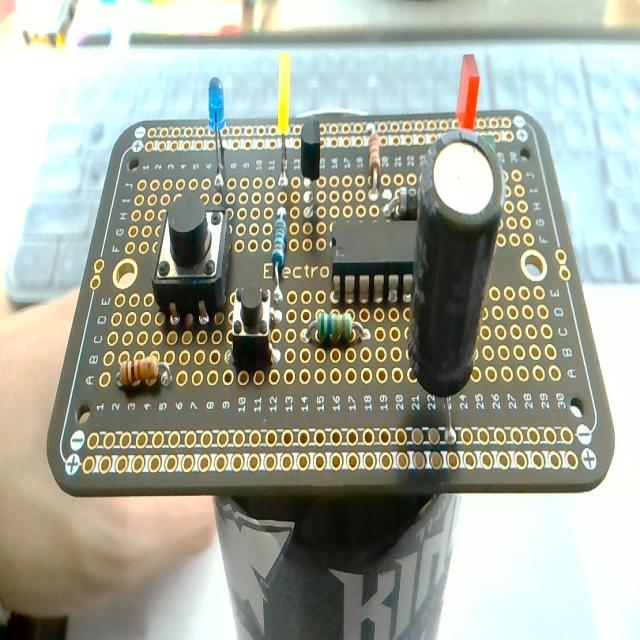Electrolytic capacitor: (406, 130, 502, 397)
IC: (332, 205, 414, 302)
diode: (386, 186, 418, 219)
led: (207, 76, 228, 201), (276, 55, 290, 192), (456, 54, 481, 130)
resistor: (302, 309, 370, 348), (116, 358, 172, 393), (272, 208, 287, 278), (368, 133, 381, 189)
switch: (151, 193, 233, 324), (230, 286, 278, 368)
transistor: (300, 122, 322, 226)
